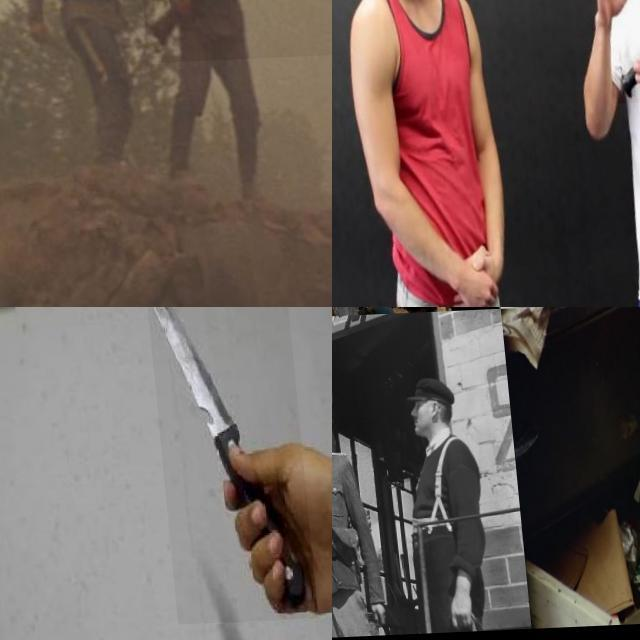-: (143, 307, 310, 627), (602, 0, 640, 107)
gun-knife-thesis - v11 Yolov5 augmented: (130, 0, 332, 81), (610, 353, 640, 520), (604, 307, 640, 343), (332, 550, 353, 595), (332, 307, 345, 345), (332, 307, 340, 330)
